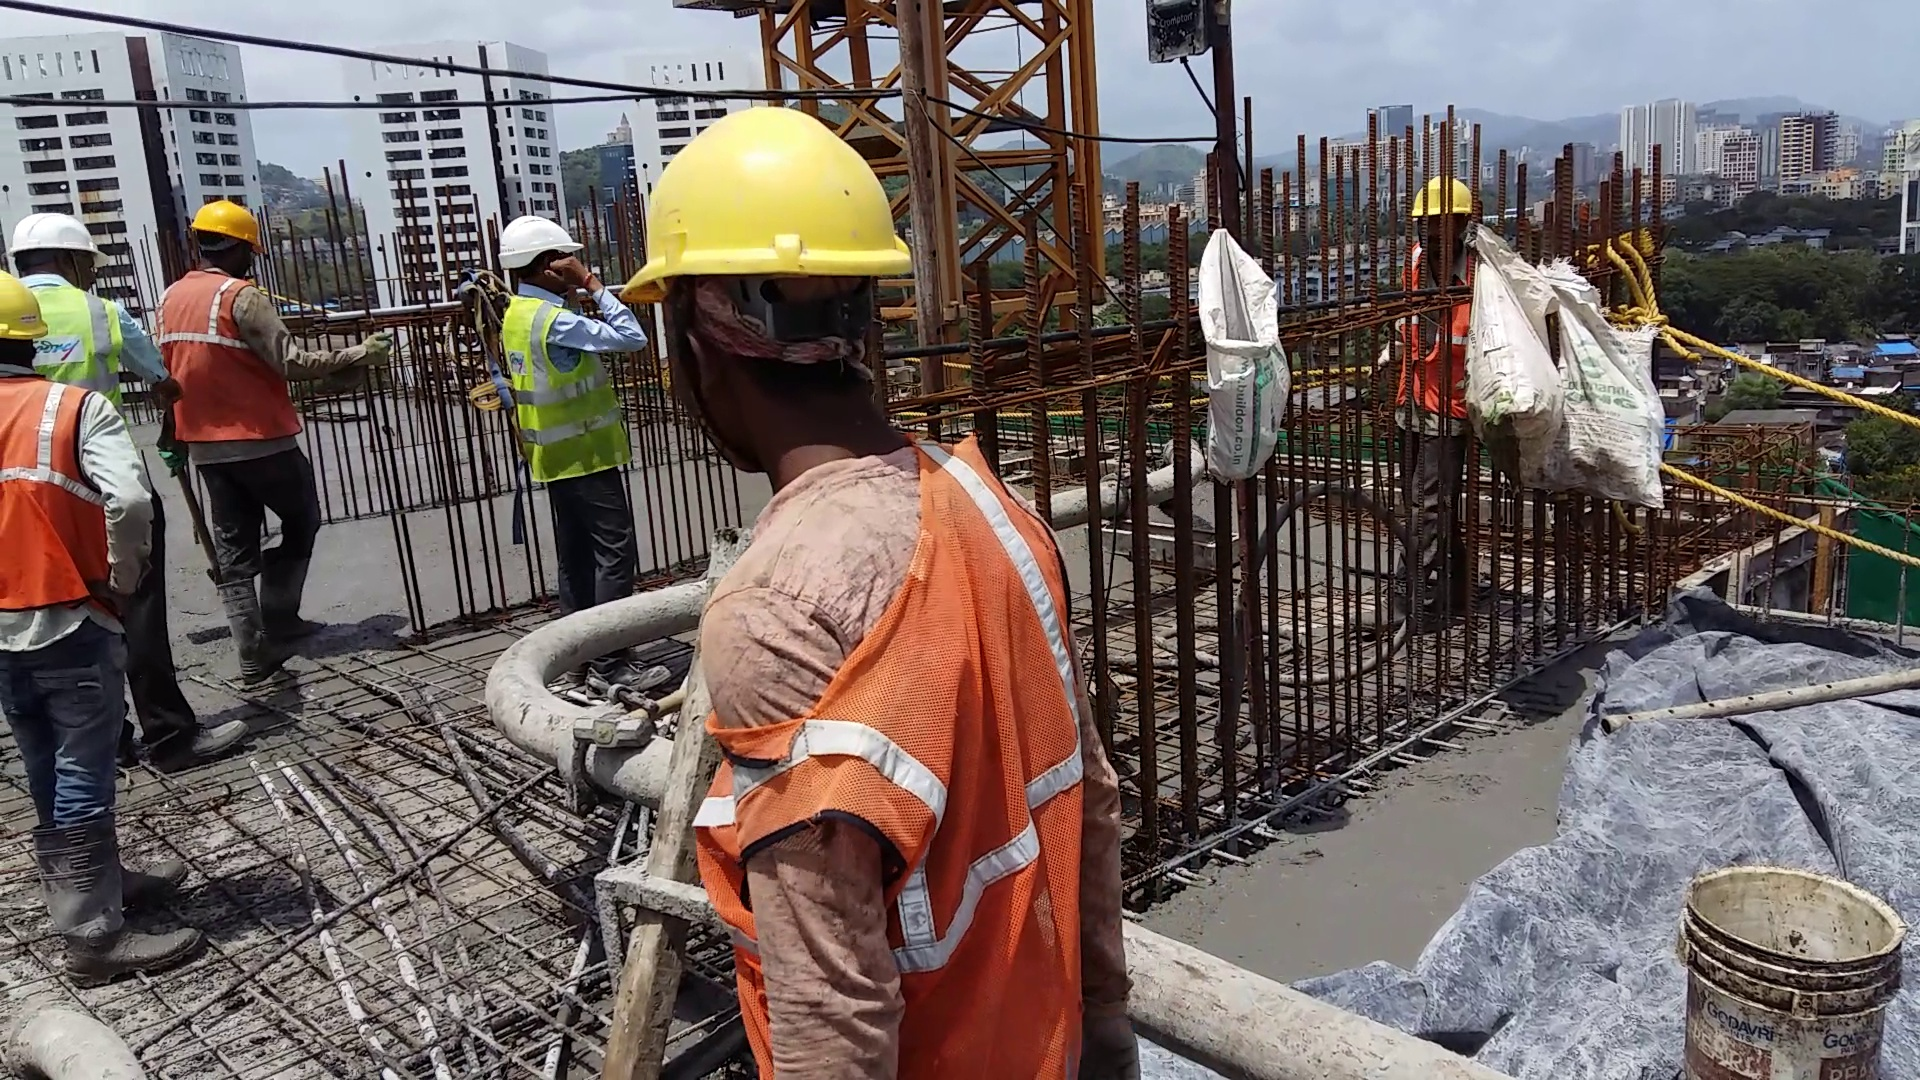SAFE: (636, 107, 1105, 1056), (1, 265, 95, 616), (498, 208, 616, 487), (167, 202, 262, 442), (46, 202, 113, 382)
